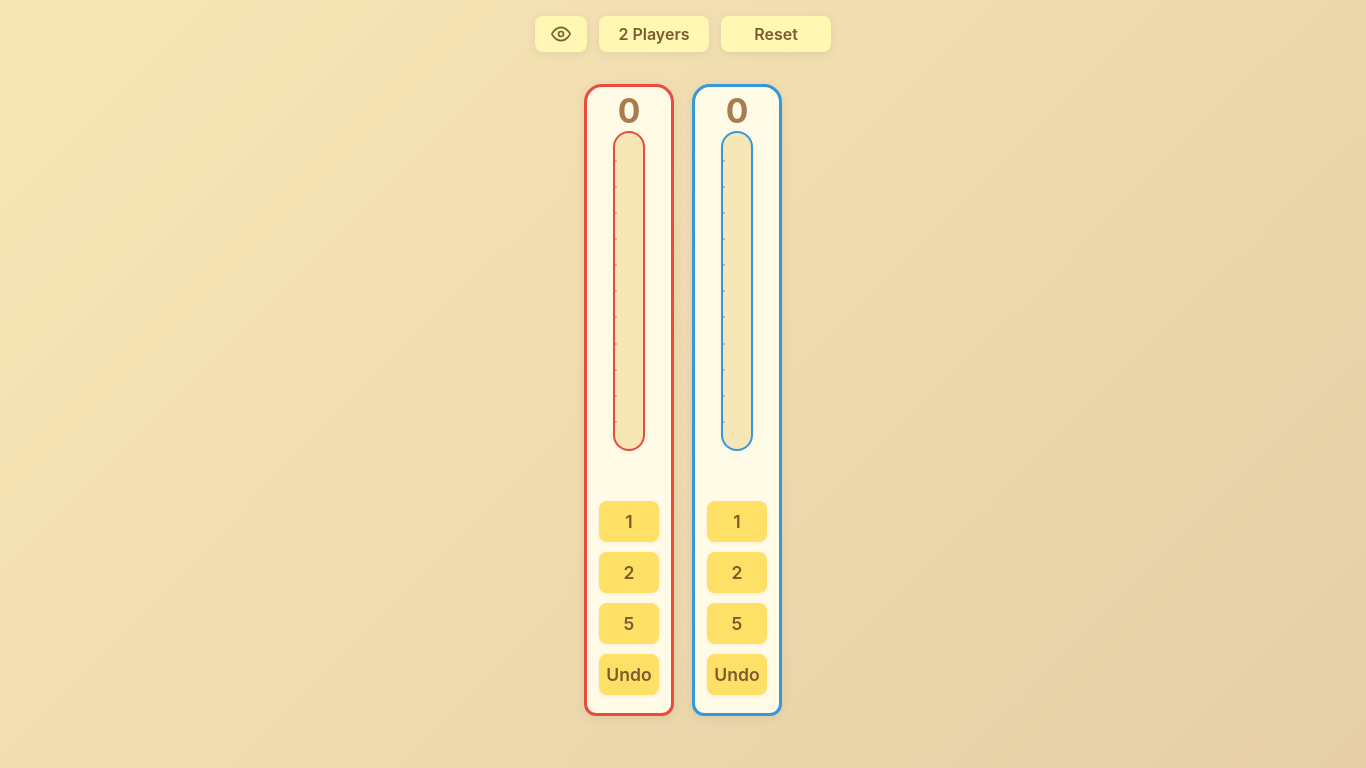
Test case: CribbageBoard › advancing score updates buffer and preview label
Expected: the 1st button "2" is shown, [599, 552, 659, 593]
Expected: the 1st button "5" is shown, [599, 603, 659, 644]
Click '1' button
What coordinates should you click on to do the following:
click the 1st button "1"
I would click on:
 (629, 522)
Its box is [599, 501, 659, 542].
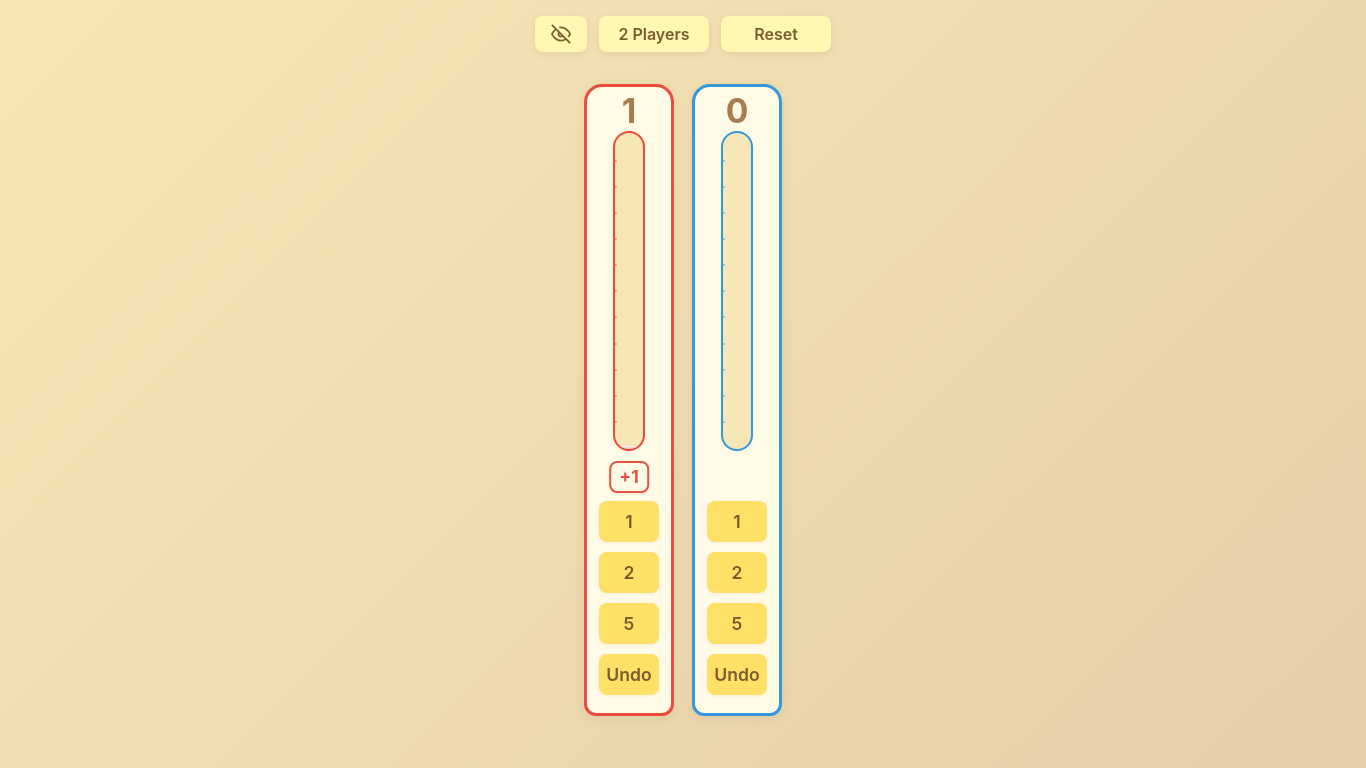
Expected: the text "+1" is shown, [609, 461, 649, 493]
Click '2' button
What coordinates should you click on to do the following:
click the 1st button "2"
I would click on:
 (629, 572)
Its box is [599, 552, 659, 593].
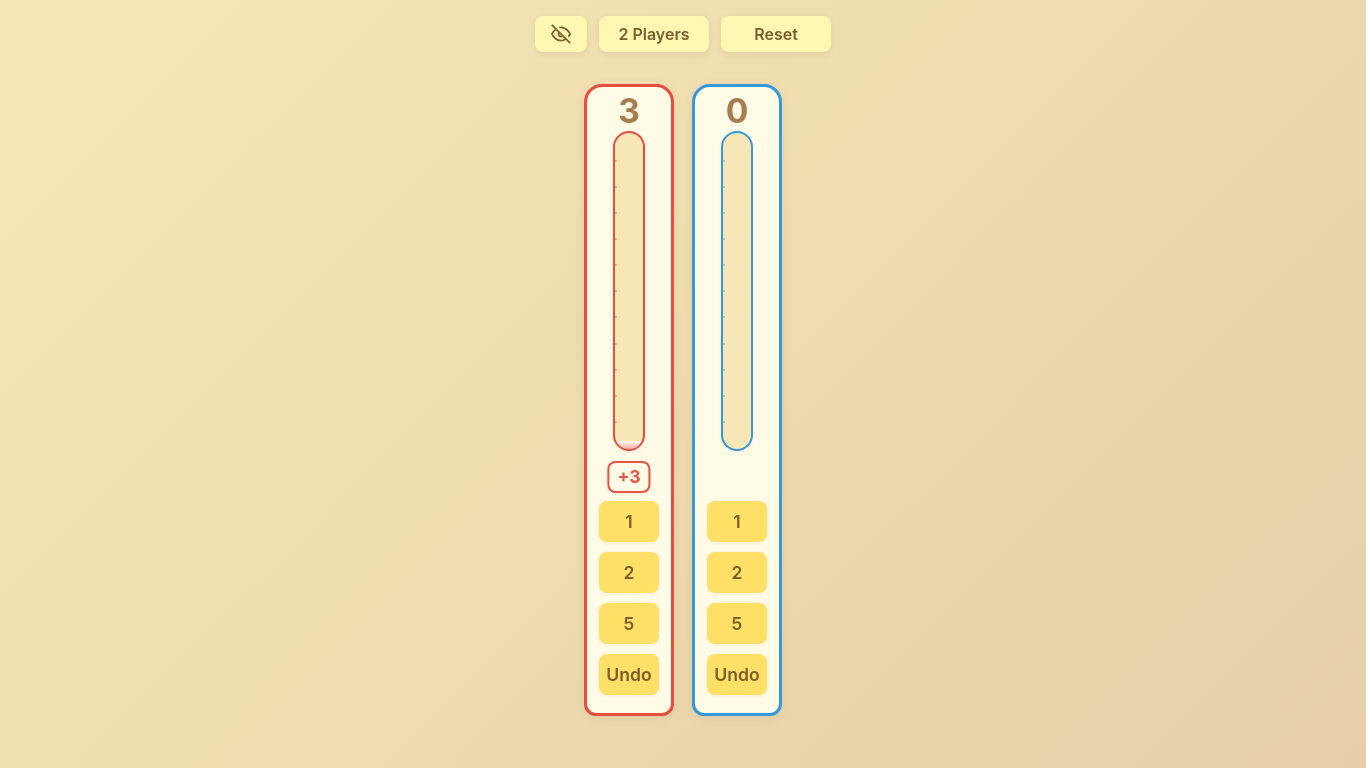
Expected: the text "+3" is shown, [607, 461, 651, 493]
Click '5' button
What coordinates should you click on to do the following:
click the 1st button "5"
I would click on:
 (629, 624)
Its box is [599, 603, 659, 644].
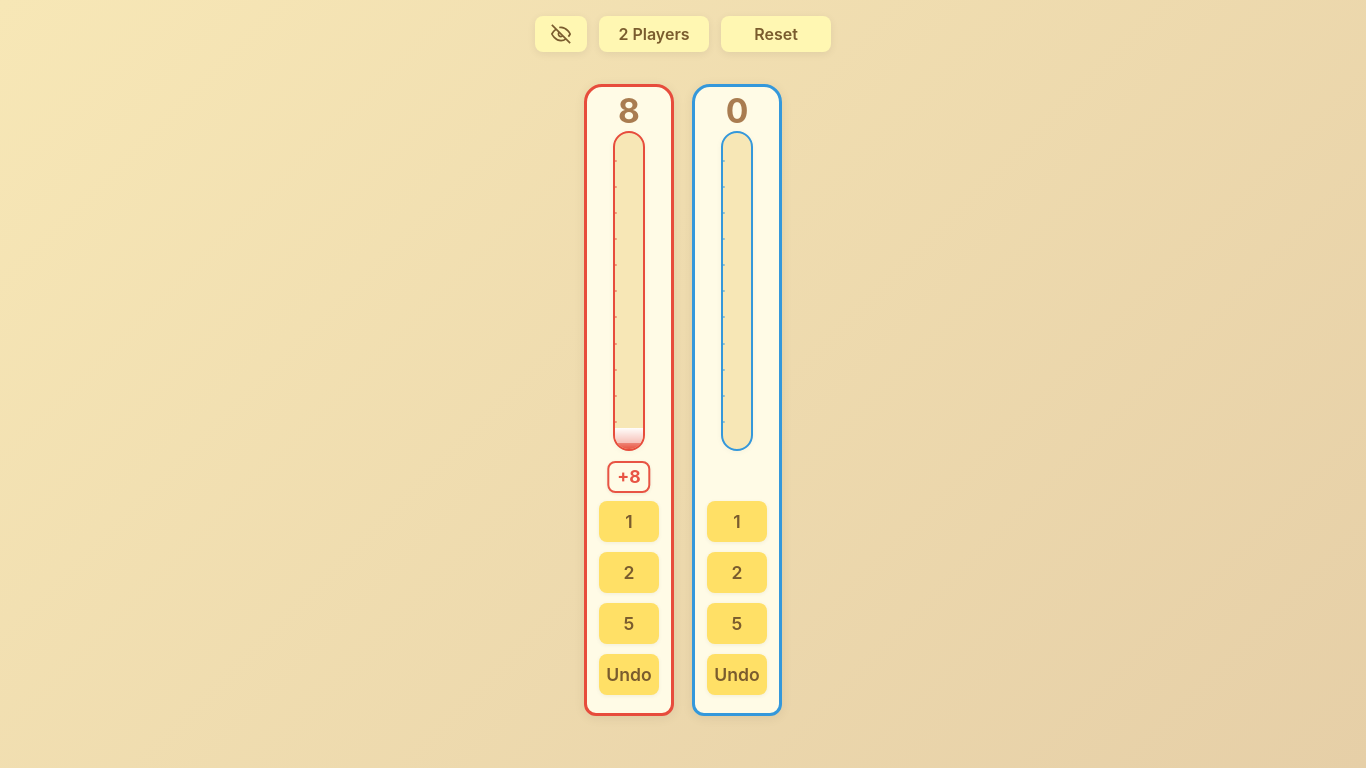
Expected: the text "+8" is shown, [607, 461, 651, 493]
